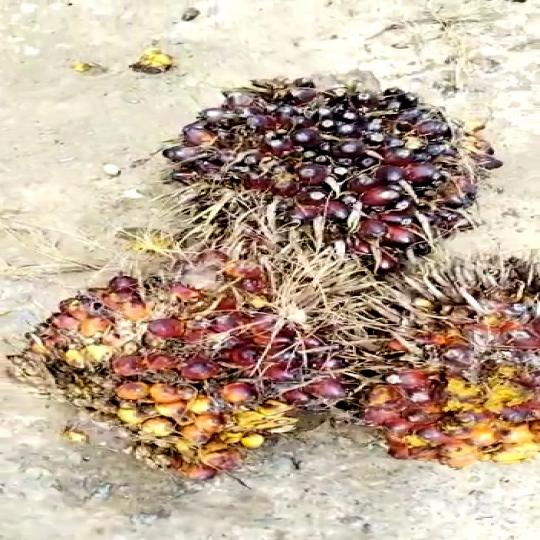masak: (26, 258, 406, 479), (142, 66, 503, 272), (345, 241, 540, 468)
